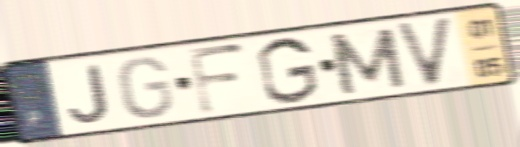F: (185, 41, 249, 118)
G: (254, 35, 321, 107), (116, 54, 176, 121)
J: (66, 62, 112, 125)
M: (324, 25, 409, 98)
V: (391, 13, 456, 90)
